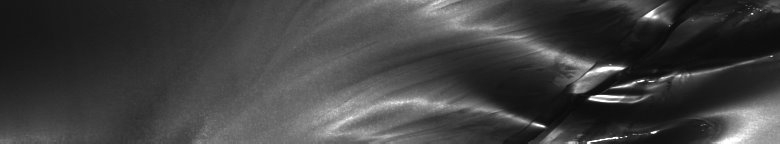ke: (340, 4, 776, 136)
